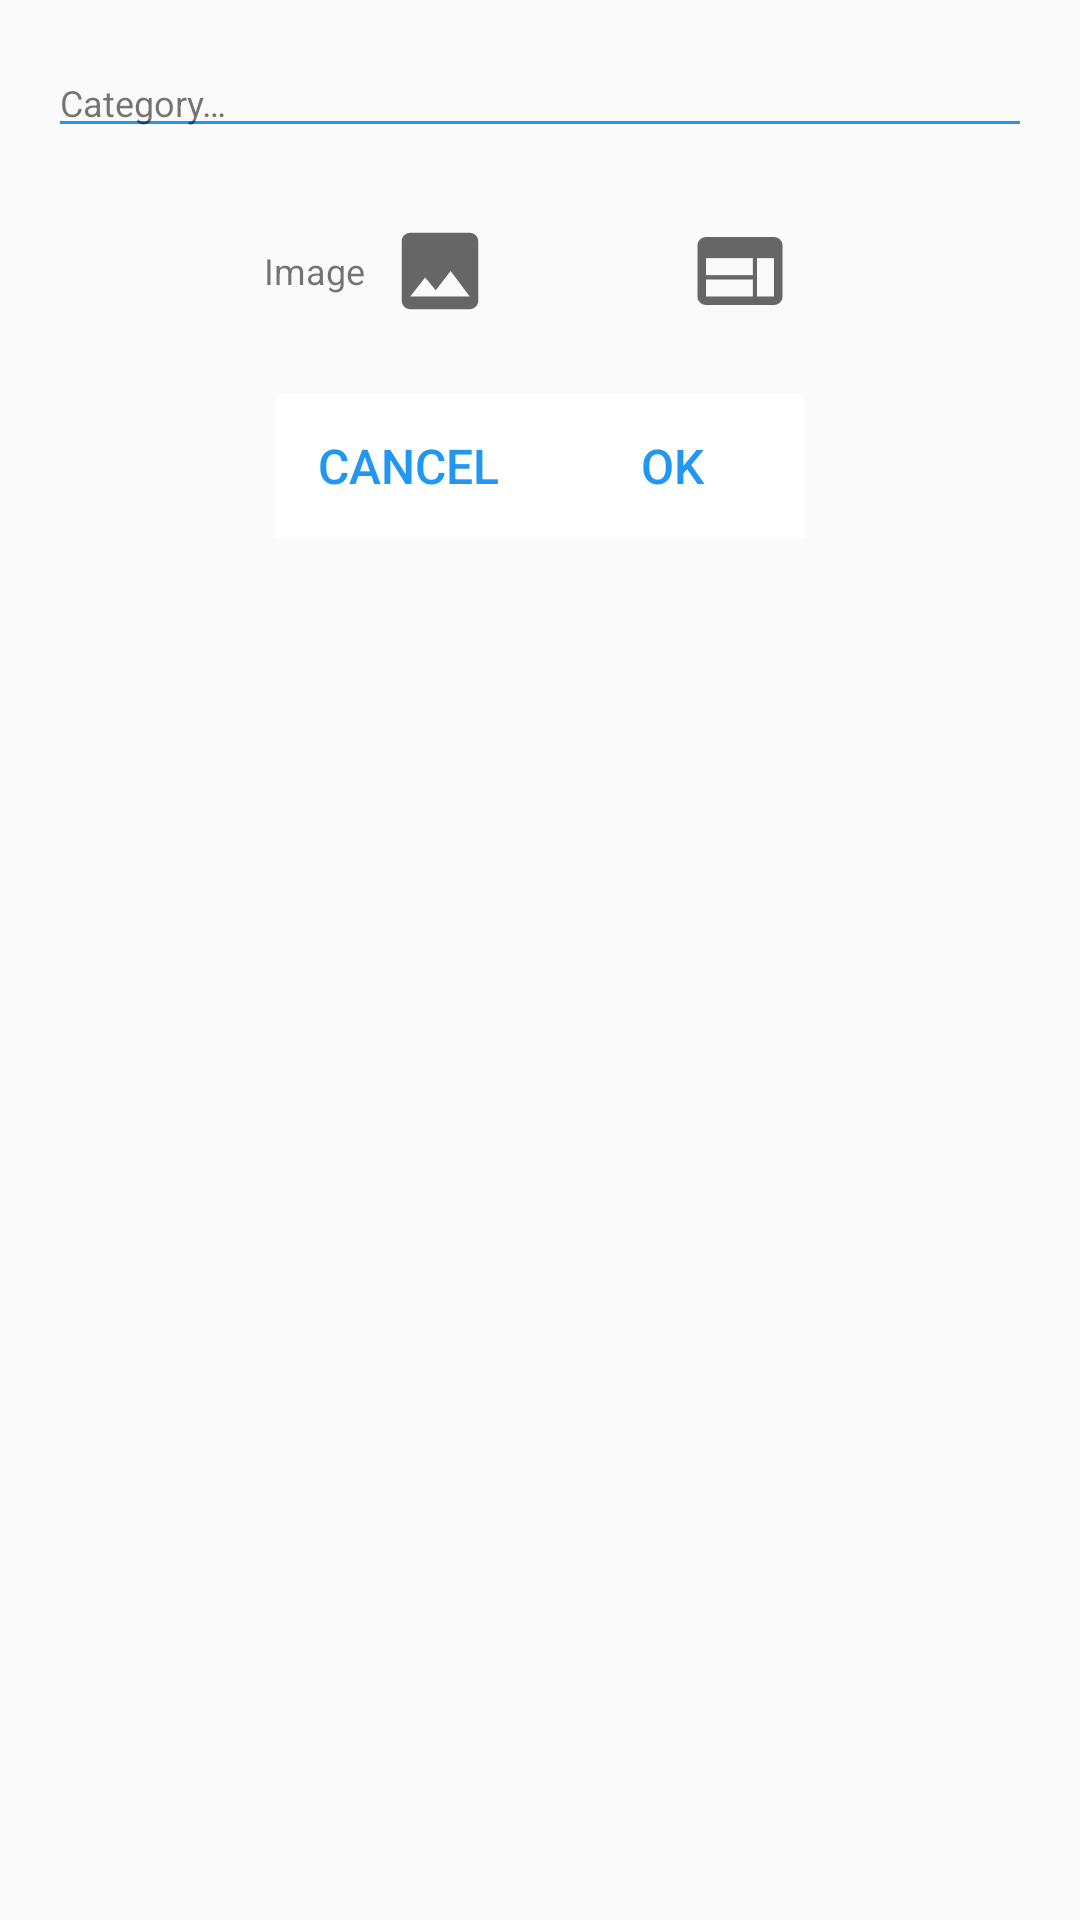

Icons on this 1080px×1920px Android screen, each with the point to tap as point (x, y):
Select image from web: point (740, 271)
